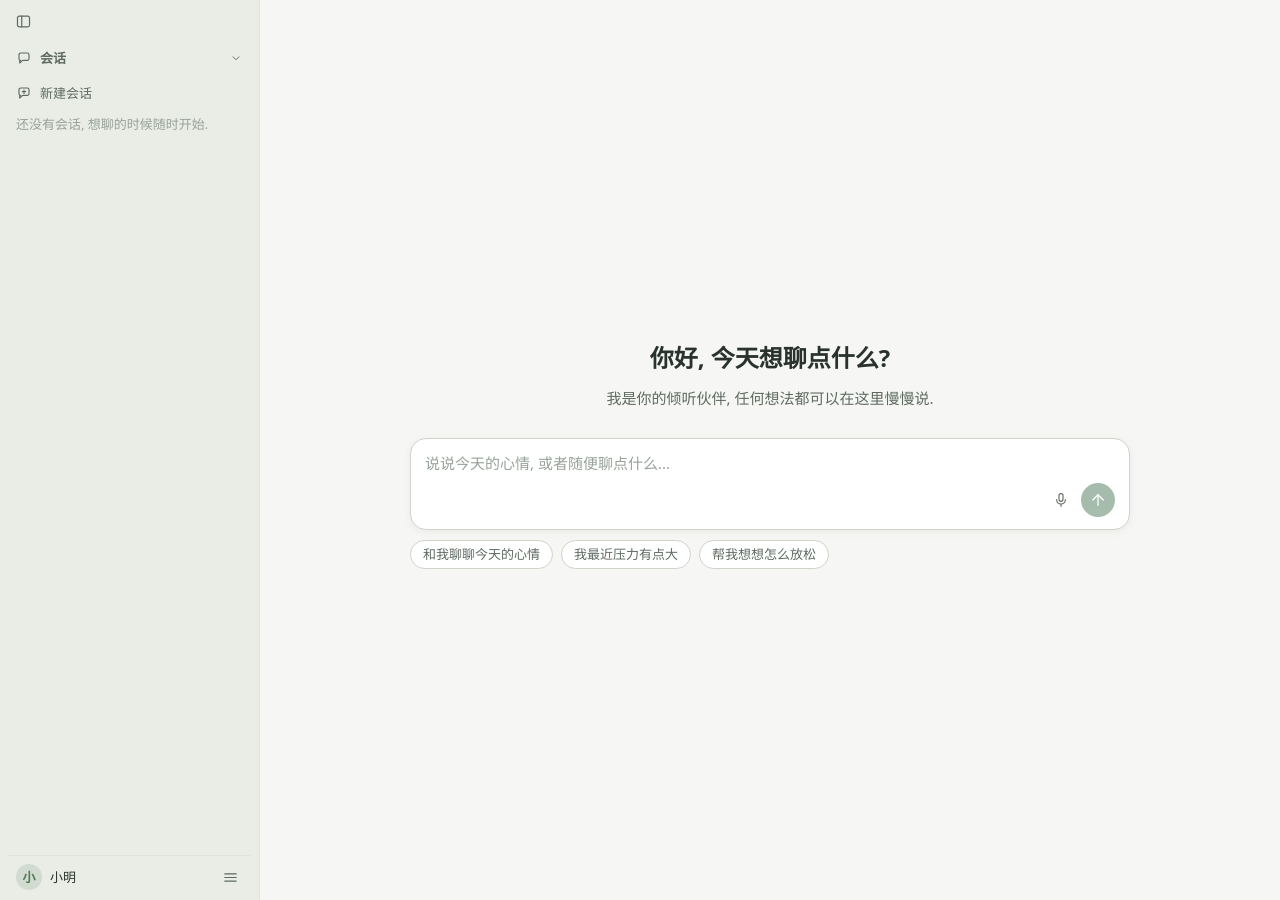
it: App (壳与路由 v2) › 登出: 回访客态 (登录入口在场), 落回首页聊天位, 菜单收起
Step 1. Click the button named "打开菜单" → {"x": 230, "y": 877}, box [218,864,243,890]
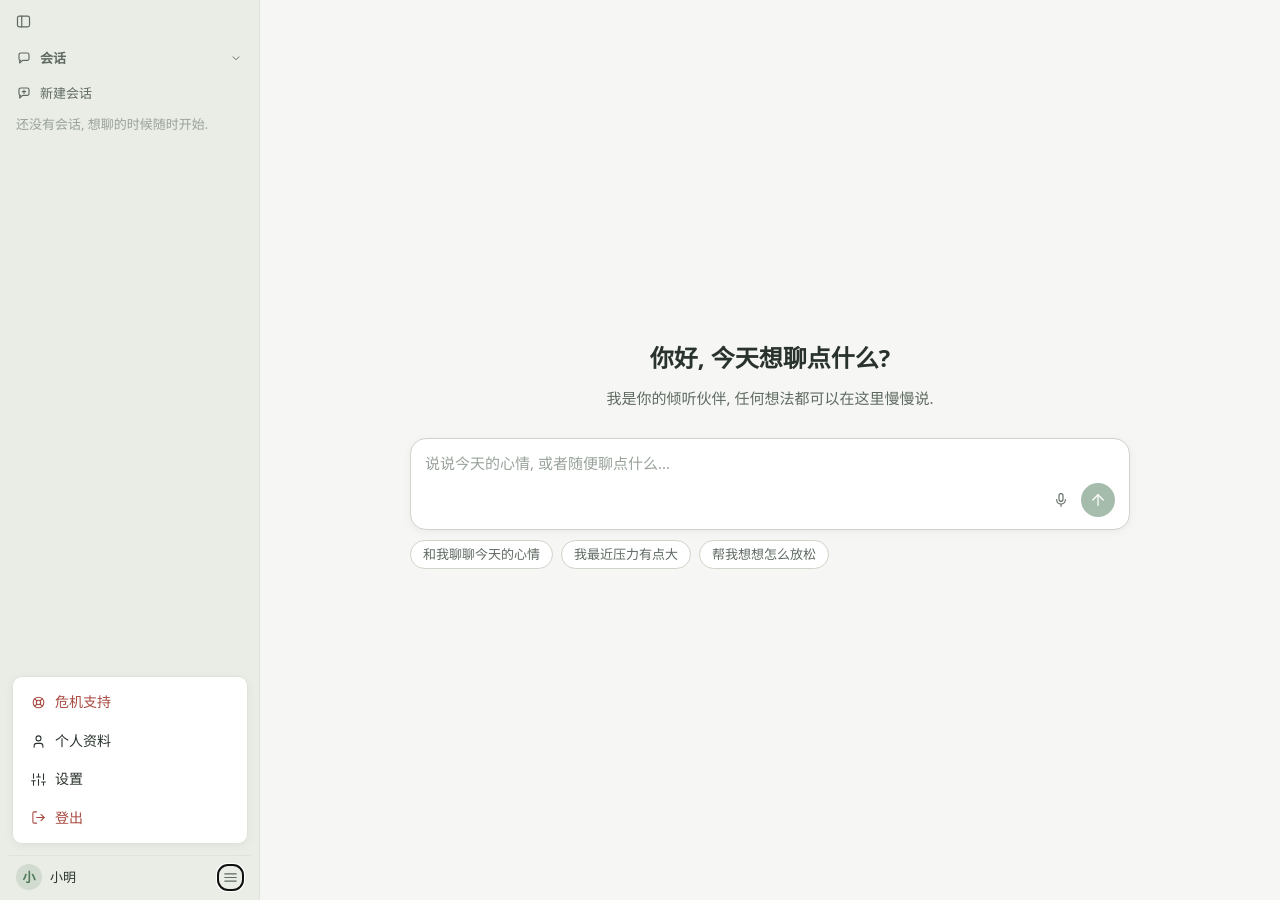
Step 2. Click the menu item "登出" → {"x": 130, "y": 818}, box [19,799,241,837]
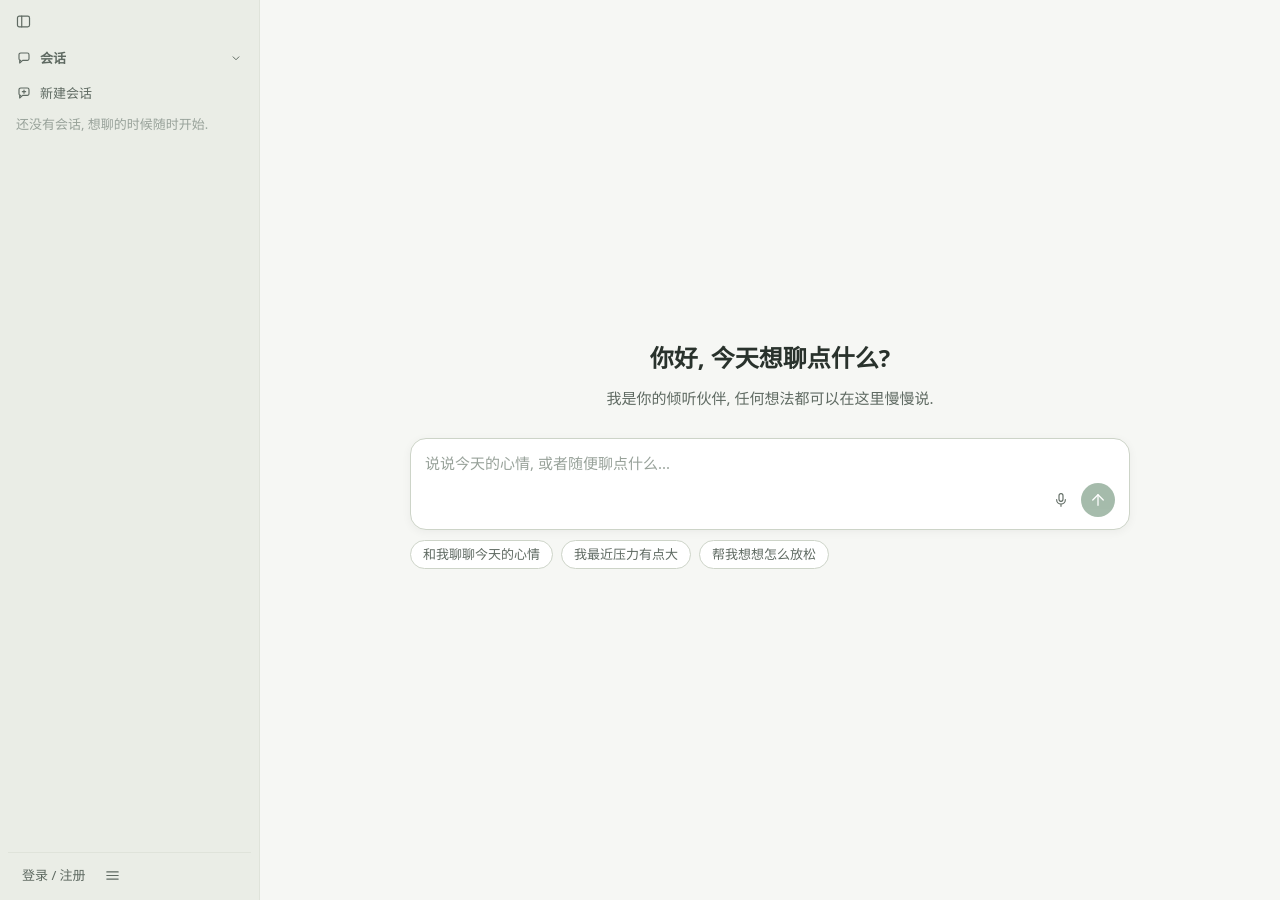
Check: the heading "你好, 今天想聊点什么?" is shown, box [650,341,890,374]
Check: the button "登录 / 注册" is shown, box [16,861,92,890]
Check: the menu is gone
